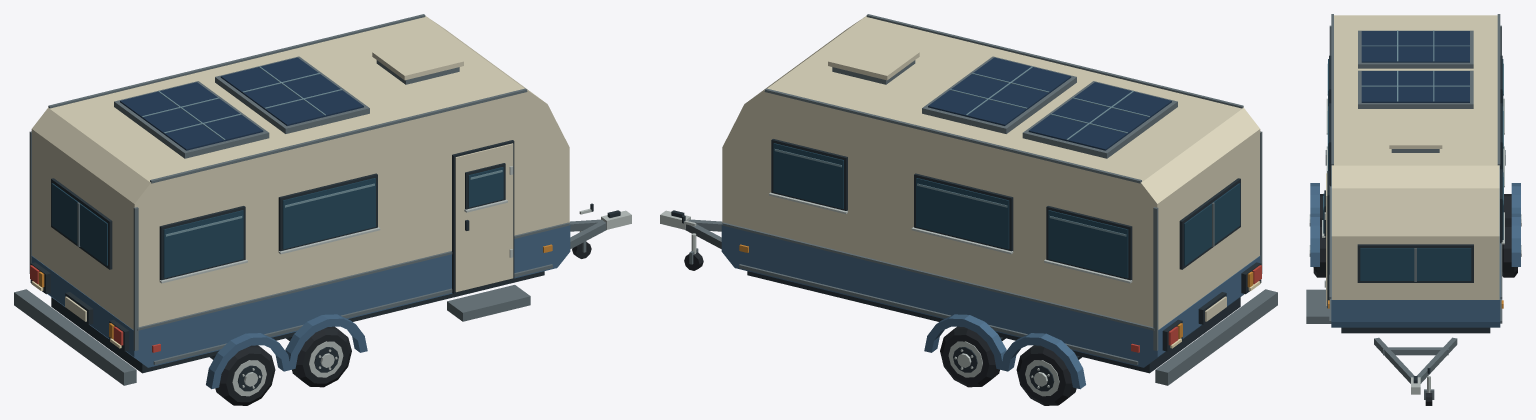
Rendered from 04_longline_family.glb.
The picture shows the model from 3 angles, left to right: view 1: azimuth 30°, elevation 25°; view 2: azimuth 150°, elevation 25°; view 3: azimuth 270°, elevation 25°; orthographic projection. The views are drawn at different scales.
Visible parts, largest first — view 1: Cream family shell, Blue lower body, Family entry door_panel, Solar cell face 2, Solar cell face 1, Central lounge window 1_glass, Rear bedroom window 1_glass, Family rear bumper, Rear bedroom end window glass, Family vent cover, Twin axle chassis, Wide entry step (+16 smaller); view 2: Cream family shell, Blue lower body, Solar cell face 2, Solar cell face 1, Central lounge window -1_glass, Rear bedroom window -1_glass, Opposite front kitchen window_glass, Family rear bumper, Rear bedroom end window glass, Family vent cover, Twin axle chassis, Family roof gutter -1 (+14 smaller); view 3: Cream family shell, Blue lower body, Front low panorama glass, Solar cell face 1, Solar cell face 2, Family vent cover, Solar panel frame 1, Solar panel frame 2, Twin axle chassis, Front low panorama frame, Wide entry step, Family roof gutter -1 (+18 smaller).
Boxes of the visible parts, x1,y1,x2,y2 form: Cream family shell: (31,16,569,329); Blue lower body: (31,224,570,367); Family entry door_panel: (455,143,513,292); Solar cell face 2: (220,57,363,125); Solar cell face 1: (120,82,263,150); Central lounge window 1_glass: (282,178,375,249); Rear bedroom window 1_glass: (163,210,243,278); Family rear bumper: (14,289,136,385); Rear bedroom end window glass: (51,183,107,265); Family vent cover: (372,37,463,80); Twin axle chassis: (51,271,544,373); Wide entry step: (447,285,530,321); Cream family shell: (722,16,1260,329); Blue lower body: (721,224,1260,367); Solar cell face 2: (928,57,1071,125); Solar cell face 1: (1028,82,1171,150); Central lounge window -1_glass: (916,178,1009,249); Rear bedroom window -1_glass: (1048,210,1128,278); Opposite front kitchen window_glass: (773,143,843,208); Family rear bumper: (1155,289,1277,385); Rear bedroom end window glass: (1184,183,1240,265); Family vent cover: (828,37,919,80); Twin axle chassis: (747,271,1240,373); Family roof gutter -1: (764,88,1141,183); Cream family shell: (1331,15,1499,299); Blue lower body: (1331,166,1500,327); Front low panorama glass: (1360,248,1471,280); Solar cell face 1: (1361,31,1469,62); Solar cell face 2: (1361,71,1469,102); Family vent cover: (1389,121,1442,148); Solar panel frame 1: (1358,30,1473,68); Solar panel frame 2: (1358,70,1473,108); Twin axle chassis: (1341,327,1490,333); Front low panorama frame: (1357,244,1473,282); Wide entry step: (1306,289,1330,323); Family roof gutter -1: (1497,14,1500,165).
Size of the model in its own units: 7.17 by 3.04 by 2.92.
